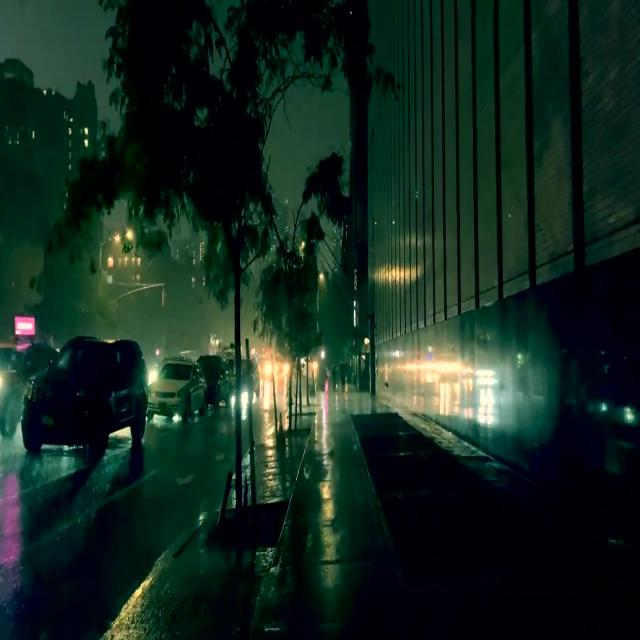Car: (20, 340, 149, 455), (149, 361, 204, 414)
